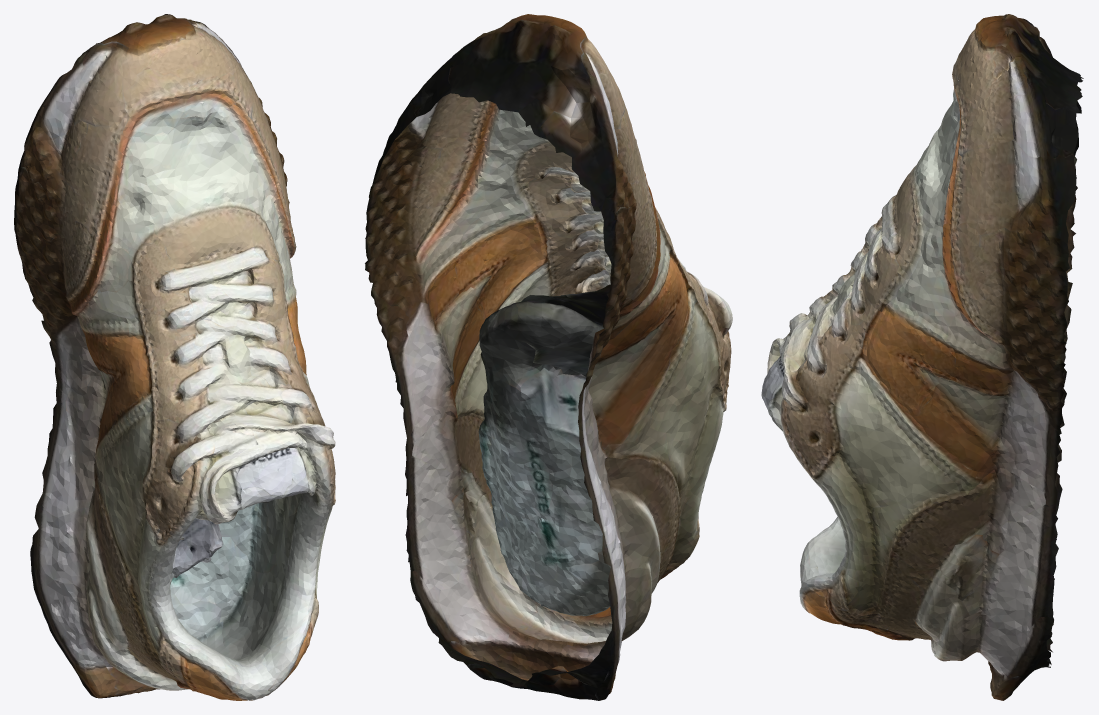
File: 01_newlac.glb
3 views of the same model, side by side, from view 1: azimuth 30°, elevation 25°; view 2: azimuth 150°, elevation 25°; view 3: azimuth 270°, elevation 25° (orthographic). The views are drawn at different scales.
Parts seen in each view (by area): view 1: Mesh_0; view 2: Mesh_0; view 3: Mesh_0.
Boxes of the visible parts, <box> form: Mesh_0: <box>14,14,335,700</box>; Mesh_0: <box>365,14,732,700</box>; Mesh_0: <box>761,14,1083,700</box>.
Bounding box in the file's own units: 0.6048 × 1.52 × 0.6833.
1 material, 1 textured.
